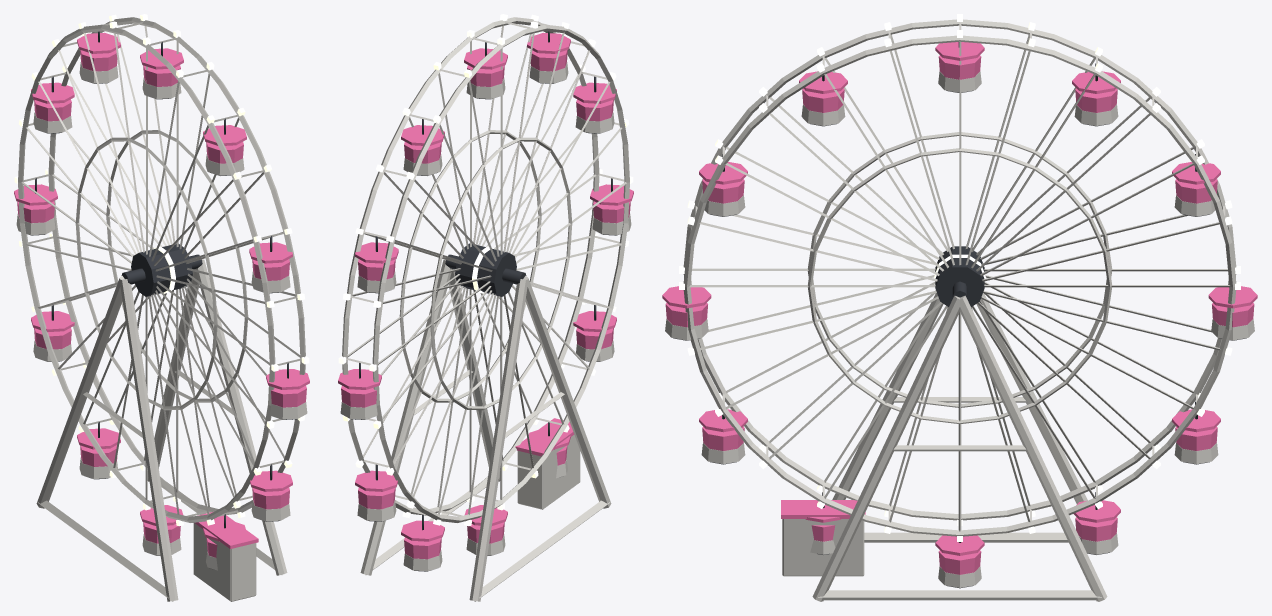
The model's file is ferris_wheel.glb.
The picture shows the model from 3 angles, left to right: view 1: azimuth 30°, elevation 25°; view 2: azimuth 150°, elevation 25°; view 3: azimuth 270°, elevation 25°; orthographic projection. The views are drawn at different scales.
Parts seen in each view (by area): view 1: Wheel, ferris_wheel, Gondola_07, Gondola_01, Gondola_02, Gondola_06, Gondola_03, Gondola_00, Gondola_05, Gondola_11, Gondola_04, Gondola_10 (+2 smaller); view 2: Wheel, ferris_wheel, Gondola_10, Gondola_11, Gondola_05, Gondola_04, Gondola_00, Gondola_03, Gondola_06, Gondola_01, Gondola_07, Gondola_02 (+2 smaller); view 3: Wheel, ferris_wheel, Gondola_09, Gondola_03, Gondola_02, Gondola_04, Gondola_11, Gondola_07, Gondola_10, Gondola_00, Gondola_06, Gondola_05 (+2 smaller).
Part boxes in pixels (x1=…): Wheel: x1=14, y1=14, x2=309, y2=526; ferris_wheel: x1=36, y1=254, x2=287, y2=601; Gondola_07: x1=250, y1=464, x2=292, y2=521; Gondola_01: x1=31, y1=76, x2=74, y2=133; Gondola_02: x1=77, y1=31, x2=120, y2=83; Gondola_06: x1=266, y1=362, x2=309, y2=419; Gondola_03: x1=140, y1=42, x2=183, y2=99; Gondola_00: x1=14, y1=178, x2=57, y2=235; Gondola_05: x1=249, y1=236, x2=292, y2=293; Gondola_11: x1=31, y1=304, x2=74, y2=361; Gondola_04: x1=203, y1=118, x2=246, y2=175; Gondola_10: x1=77, y1=422, x2=120, y2=479; Wheel: x1=338, y1=14, x2=633, y2=526; ferris_wheel: x1=360, y1=254, x2=611, y2=601; Gondola_10: x1=401, y1=514, x2=444, y2=571; Gondola_11: x1=355, y1=464, x2=397, y2=521; Gondola_05: x1=573, y1=76, x2=616, y2=133; Gondola_04: x1=527, y1=31, x2=570, y2=83; Gondola_00: x1=338, y1=363, x2=381, y2=419; Gondola_03: x1=464, y1=42, x2=507, y2=99; Gondola_06: x1=590, y1=178, x2=633, y2=235; Gondola_01: x1=355, y1=236, x2=398, y2=293; Gondola_07: x1=573, y1=305, x2=616, y2=361; Gondola_02: x1=401, y1=119, x2=444, y2=175; Wheel: x1=679, y1=14, x2=1240, y2=541; ferris_wheel: x1=781, y1=281, x2=1107, y2=601; Gondola_09: x1=935, y1=535, x2=984, y2=588; Gondola_03: x1=935, y1=42, x2=984, y2=92; Gondola_02: x1=1072, y1=63, x2=1120, y2=126; Gondola_04: x1=799, y1=71, x2=847, y2=126; Gondola_11: x1=1172, y1=401, x2=1220, y2=464; Gondola_07: x1=699, y1=409, x2=747, y2=464; Gondola_10: x1=1073, y1=492, x2=1120, y2=554; Gondola_00: x1=1208, y1=286, x2=1257, y2=340; Gondola_06: x1=662, y1=286, x2=711, y2=340; Gondola_05: x1=699, y1=154, x2=747, y2=216.
Size of the model in its own units: 5.4 by 22.5 by 21.8.
